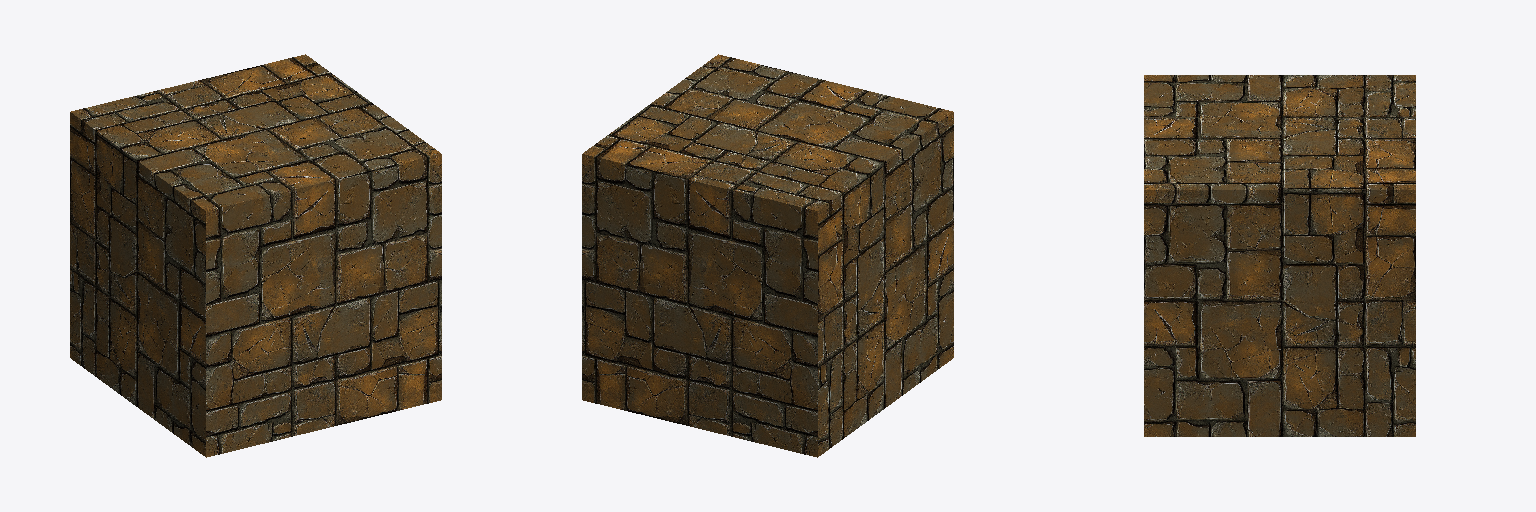
The picture shows the model from 3 angles: view 1: azimuth 30°, elevation 25°; view 2: azimuth 150°, elevation 25°; view 3: azimuth 270°, elevation 25°; orthographic projection.
Visible parts, largest first — view 1: south_wall, west_wall, floor; view 2: north_wall, west_wall, floor; view 3: east_wall, floor.
Part boxes in pixels (left/top/right/bottom): south_wall: left=206, top=154, right=441, bottom=457; west_wall: left=70, top=112, right=205, bottom=456; floor: left=71, top=54, right=440, bottom=210; north_wall: left=582, top=154, right=817, bottom=457; west_wall: left=818, top=112, right=953, bottom=456; floor: left=583, top=54, right=952, bottom=210; east_wall: left=1144, top=190, right=1415, bottom=436; floor: left=1144, top=75, right=1415, bottom=189.
Bounding box in the file's own units: 1 × 1 × 1.
5 materials, 1 textured.